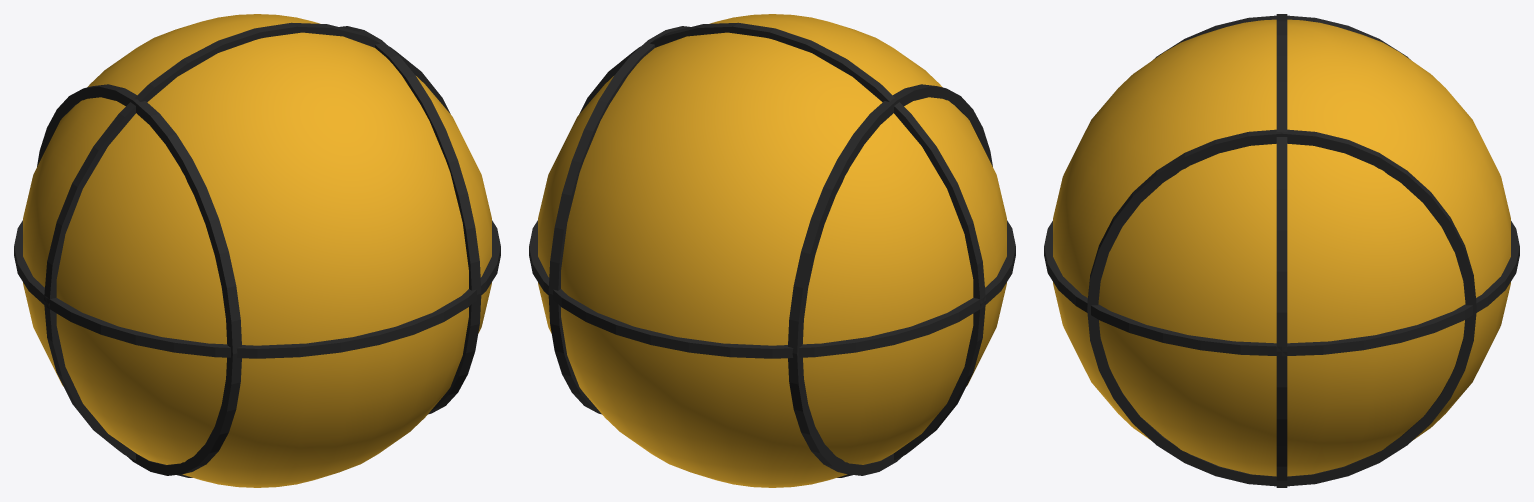
Rendered from Sport_Ball_Basket.glb.
3 renders of one model, left to right at view 1: azimuth 30°, elevation 25°; view 2: azimuth 150°, elevation 25°; view 3: azimuth 270°, elevation 25°, orthographic. The views are drawn at different scales.
Visible parts, largest first — view 1: Sport_Ball_Basket; view 2: Sport_Ball_Basket; view 3: Sport_Ball_Basket.
Part boxes in pixels (x1=…): Sport_Ball_Basket: x1=14, y1=14, x2=500, y2=487; Sport_Ball_Basket: x1=529, y1=14, x2=1015, y2=487; Sport_Ball_Basket: x1=1044, y1=14, x2=1519, y2=487.
Size of the model in its own units: 0.8216 by 0.8216 by 0.8216.
